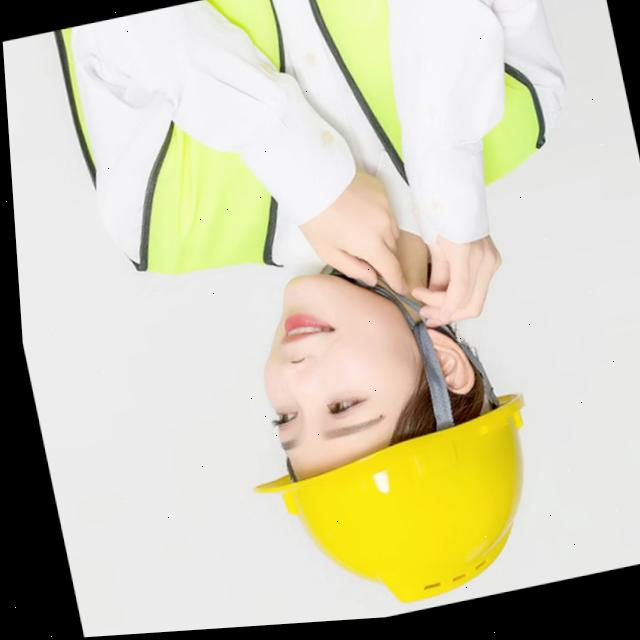helmet: (245, 393, 555, 628)
vest: (90, 0, 534, 297)
